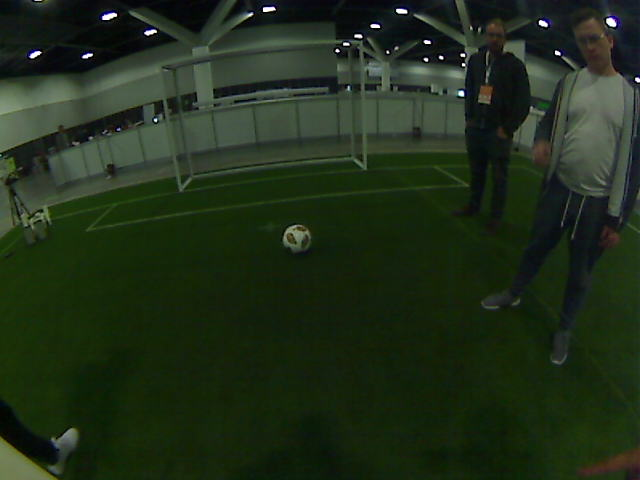ball: (276, 218, 316, 258)
goalpost: (351, 116, 376, 170), (169, 141, 193, 193)
robot: (30, 195, 47, 239)
